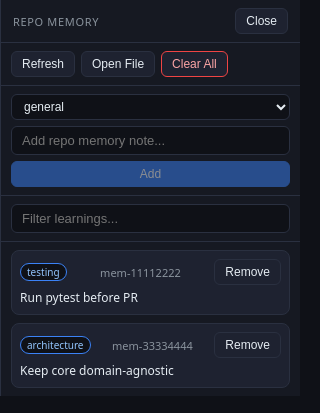
Test: MemoryPanel › lists, filters, adds, removes, and confirms Clear All without native modals
Later steps or results of the test are not shown.
Expected: the text "Run pytest before PR" is shown, [20, 289, 138, 306]
Step 1. Type "pytest" into the search field named "Filter repository memory" → coordinates (150, 218), box [11, 204, 290, 233]
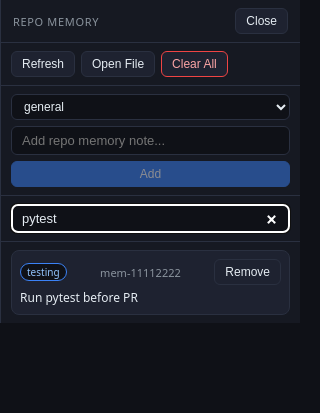
Expected: the text "Keep core domain-agnostic" is gone
